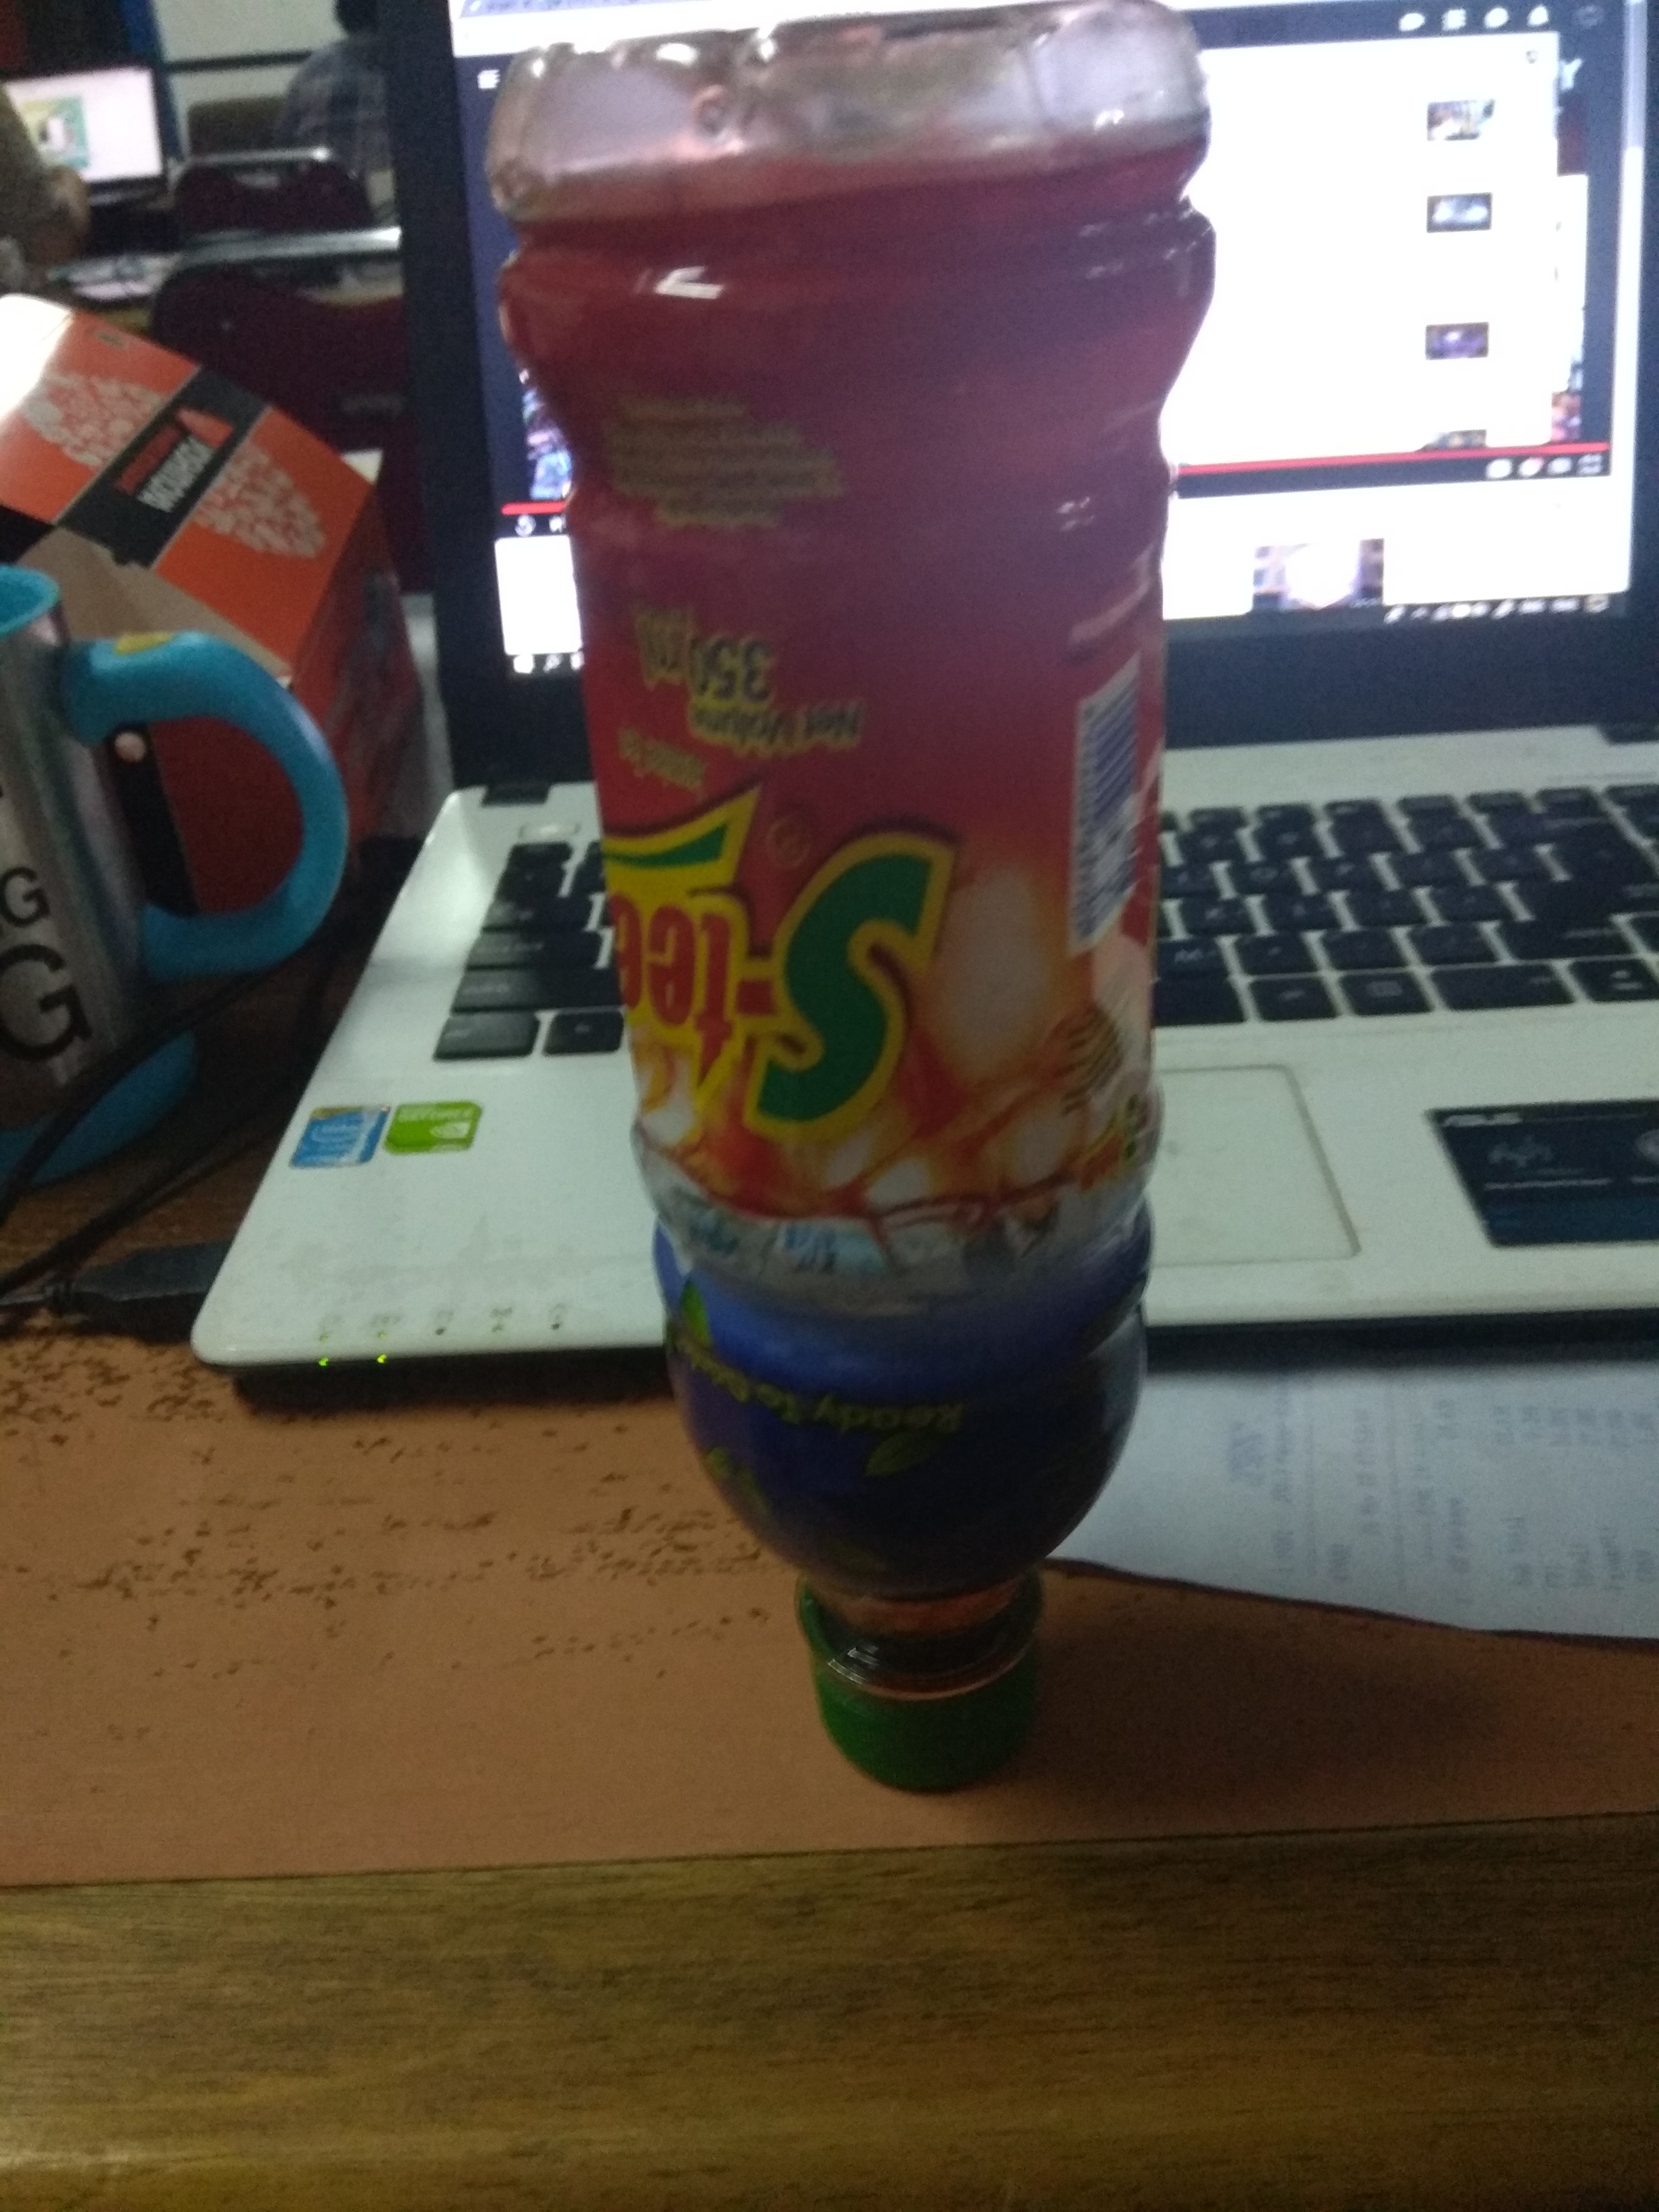botol: (484, 2, 1215, 1794), (504, 2, 1215, 1794), (504, 24, 1215, 1794), (504, 24, 1190, 1794)
